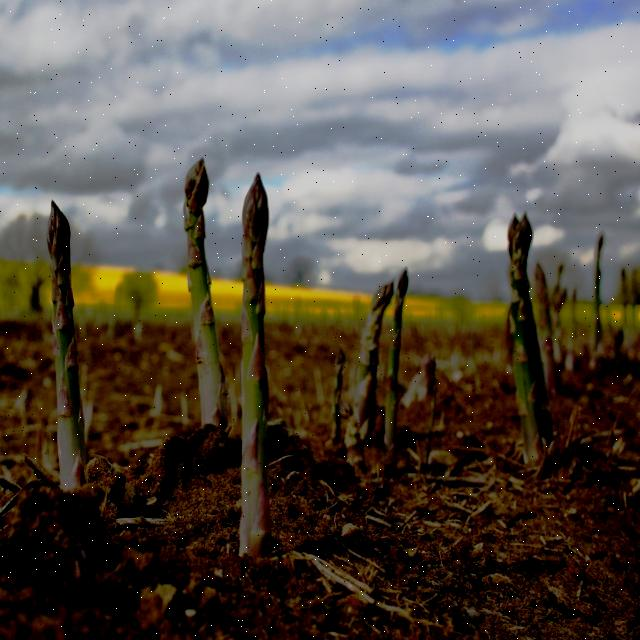aspargus: (236, 175, 269, 562), (47, 205, 85, 494), (184, 160, 225, 427)
